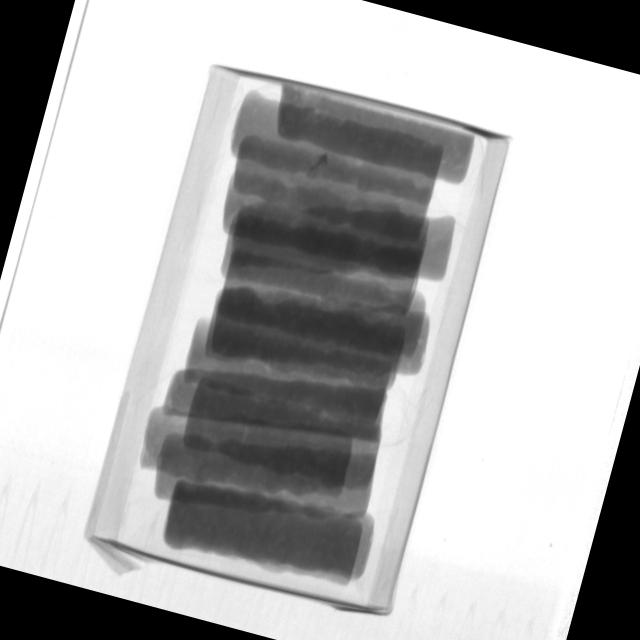ym: (310, 148, 331, 176)
